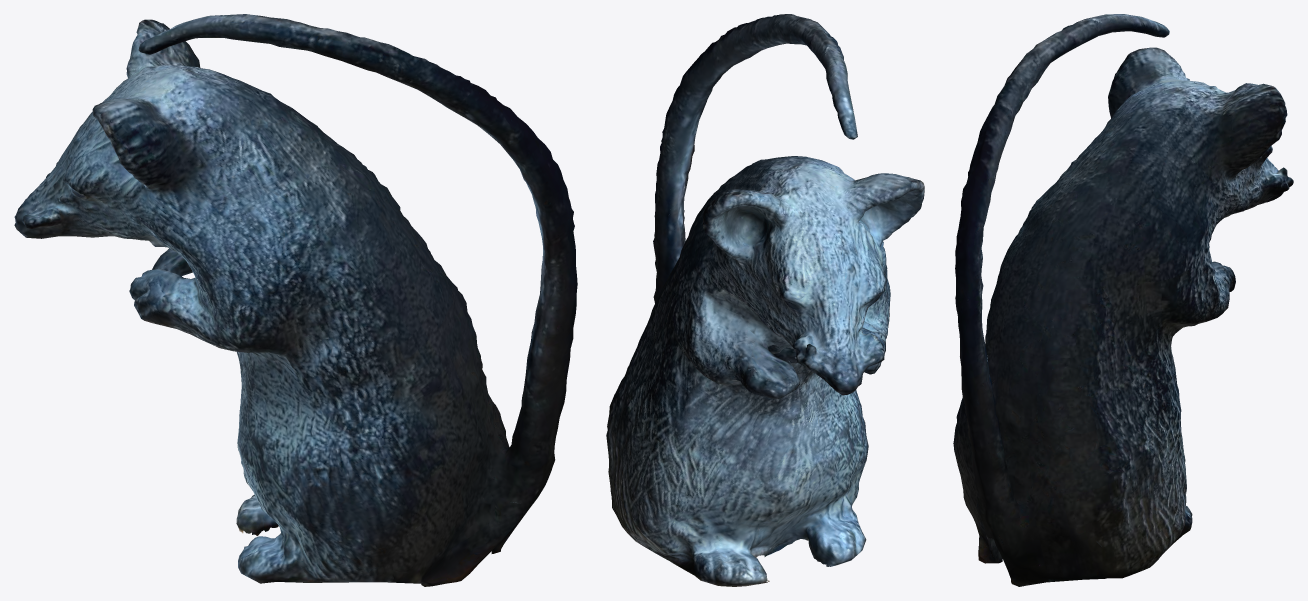
The model's file is mouse.glb.
3 views of the same model, side by side, from view 1: azimuth 30°, elevation 25°; view 2: azimuth 150°, elevation 25°; view 3: azimuth 270°, elevation 25° (orthographic). The views are drawn at different scales.
Visible parts, largest first — view 1: Object_2.001; view 2: Object_2.001; view 3: Object_2.001.
Boxes of the visible parts, <box> form: Object_2.001: <box>14,14,577,586</box>; Object_2.001: <box>606,14,924,586</box>; Object_2.001: <box>953,14,1293,586</box>.
Bounding box in the file's own units: 0.5242 × 0.7014 × 0.4468.
1 material, 1 textured.
